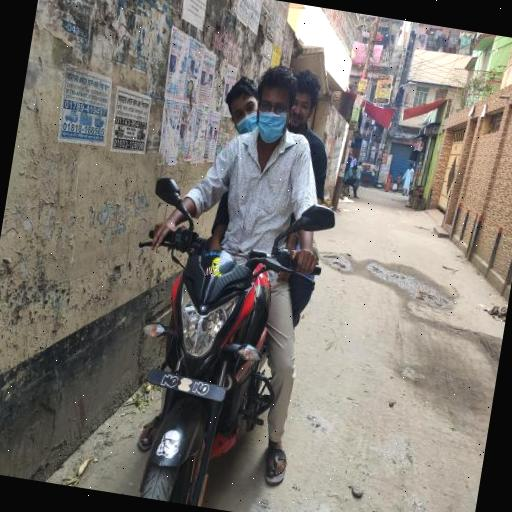no helmet: (237, 62, 313, 174)
triple riding: (101, 37, 378, 512)
